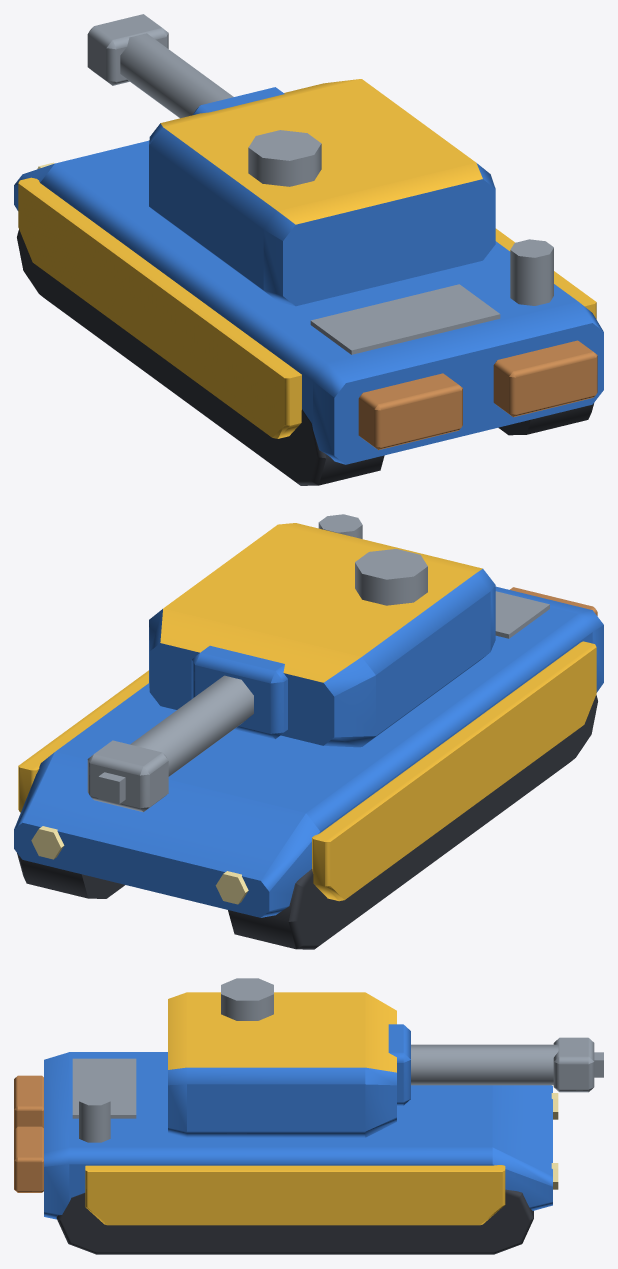
File: unit-heavytank.glb
The picture shows the model from 3 angles, top to bottom: view 1: azimuth 30°, elevation 25°; view 2: azimuth 150°, elevation 25°; view 3: azimuth 270°, elevation 25°; orthographic projection. The views are drawn at different scales.
Visible parts, largest first — view 1: hull, turret, track_left, barrel, exhaust, track_right; view 2: hull, turret, barrel, track_left, track_right, exhaust, muzzle; view 3: hull, turret, track_right, barrel, exhaust.
Boxes of the visible parts, <box> form: hull: <box>14,140,603,464</box>; turret: <box>149,79,495,306</box>; track_left: <box>17,229,384,485</box>; barrel: <box>87,14,284,118</box>; exhaust: <box>510,239,553,305</box>; track_right: <box>498,403,593,435</box>; hull: <box>14,586,603,917</box>; turret: <box>149,523,495,747</box>; barrel: <box>87,645,287,812</box>; track_left: <box>228,695,597,949</box>; track_right: <box>17,853,124,898</box>; exhaust: <box>318,514,362,538</box>; muzzle: <box>98,772,125,803</box>; hull: <box>14,1052,558,1225</box>; turret: <box>168,978,396,1137</box>; track_right: <box>56,1189,533,1254</box>; barrel: <box>388,1024,594,1105</box>; exhaust: <box>79,1091,110,1142</box>.
Size of the model in its own units: 4.4 by 3.36 by 9.27.
